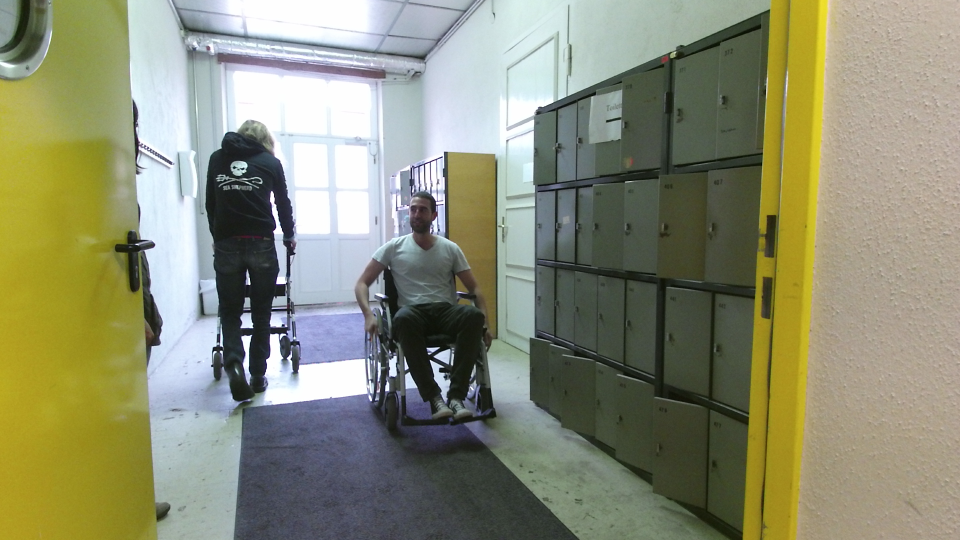wheelchair: (344, 192, 498, 432)
